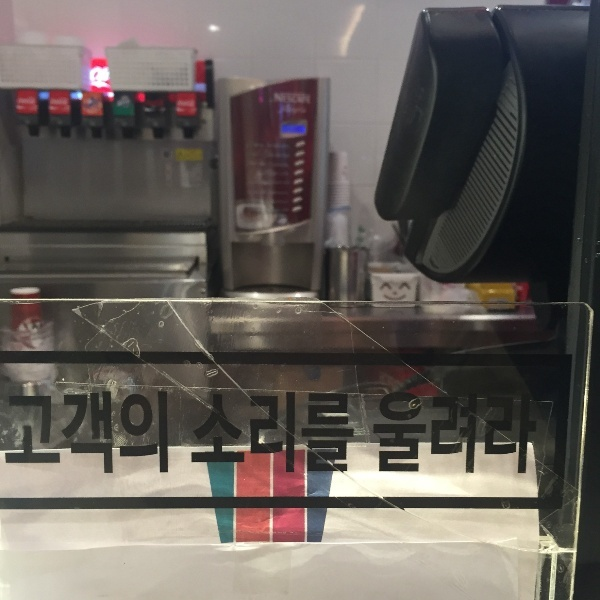text: (17, 388, 32, 481), (33, 388, 48, 481), (49, 388, 64, 481), (65, 388, 80, 481), (81, 388, 96, 481), (97, 388, 112, 481), (113, 388, 128, 481), (129, 388, 144, 481), (145, 388, 160, 481), (193, 392, 208, 479), (209, 392, 224, 479), (225, 392, 240, 479), (241, 392, 256, 479), (257, 392, 272, 479), (273, 392, 288, 479), (289, 392, 304, 479), (305, 392, 320, 479), (321, 392, 336, 479), (337, 392, 352, 479), (385, 390, 400, 477), (401, 390, 416, 477), (417, 390, 432, 477), (433, 390, 448, 477), (449, 390, 464, 477), (465, 390, 480, 477), (481, 390, 496, 477), (497, 390, 512, 477), (513, 390, 528, 477), (372, 390, 384, 477), (529, 390, 541, 477), (7, 388, 16, 481), (161, 388, 169, 481), (289, 92, 304, 111), (275, 92, 288, 111), (353, 392, 355, 479), (305, 92, 313, 111), (191, 392, 192, 479)
